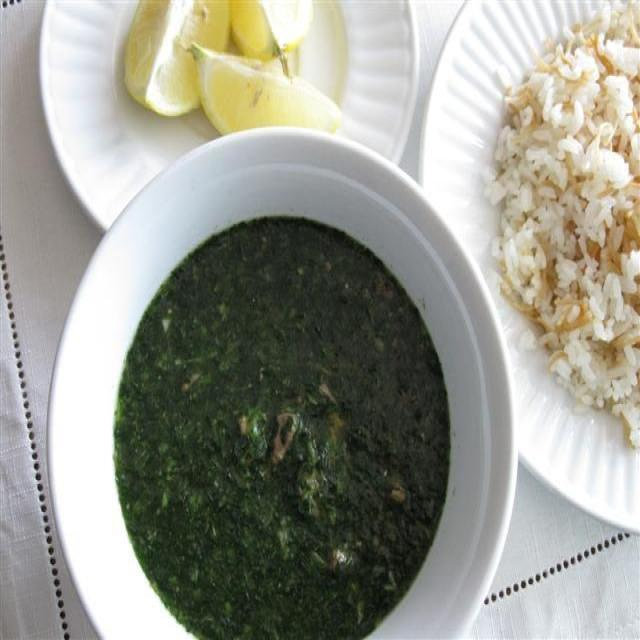Molokhya: (49, 171, 483, 640)
lemon: (7, 0, 400, 155)
